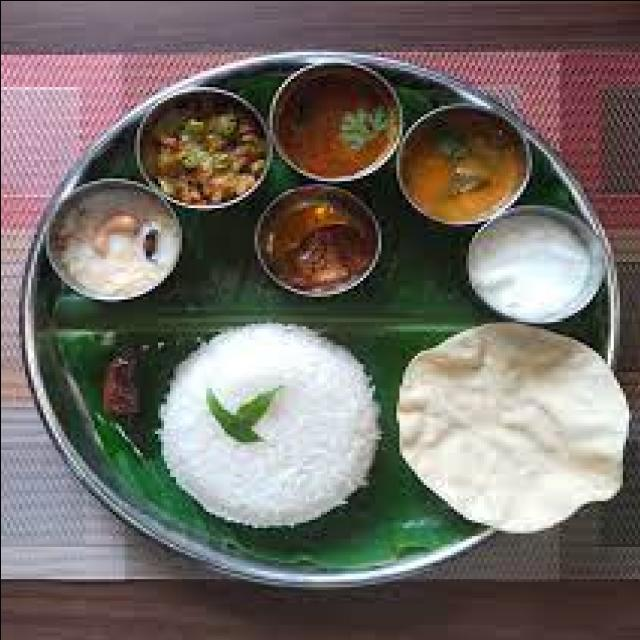curd: (455, 209, 610, 322)
pickle: (248, 190, 382, 292)
rice: (149, 323, 389, 524)
sambar-rasam: (265, 61, 403, 181), (398, 104, 531, 222), (44, 188, 178, 298)
sweet: (42, 186, 185, 298)
